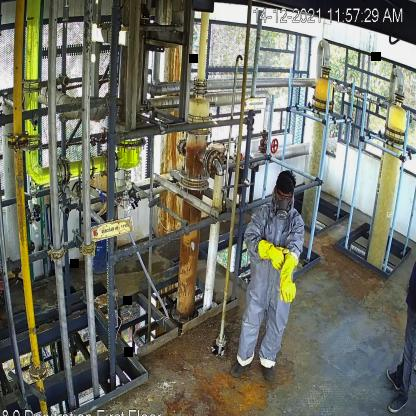goggles: (275, 192, 293, 202)
mask: (273, 199, 290, 222)
